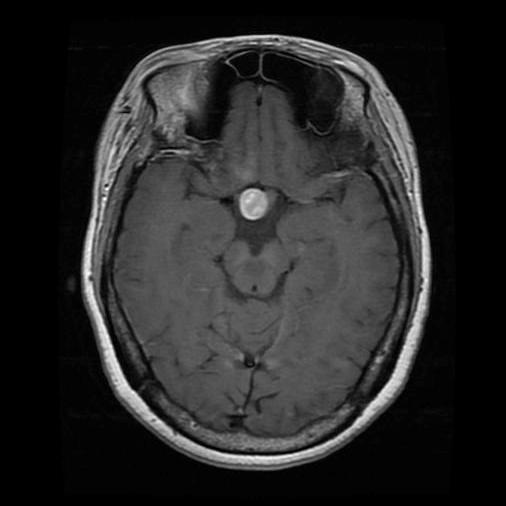Tumour-Pituitary: (239, 188, 271, 222)
